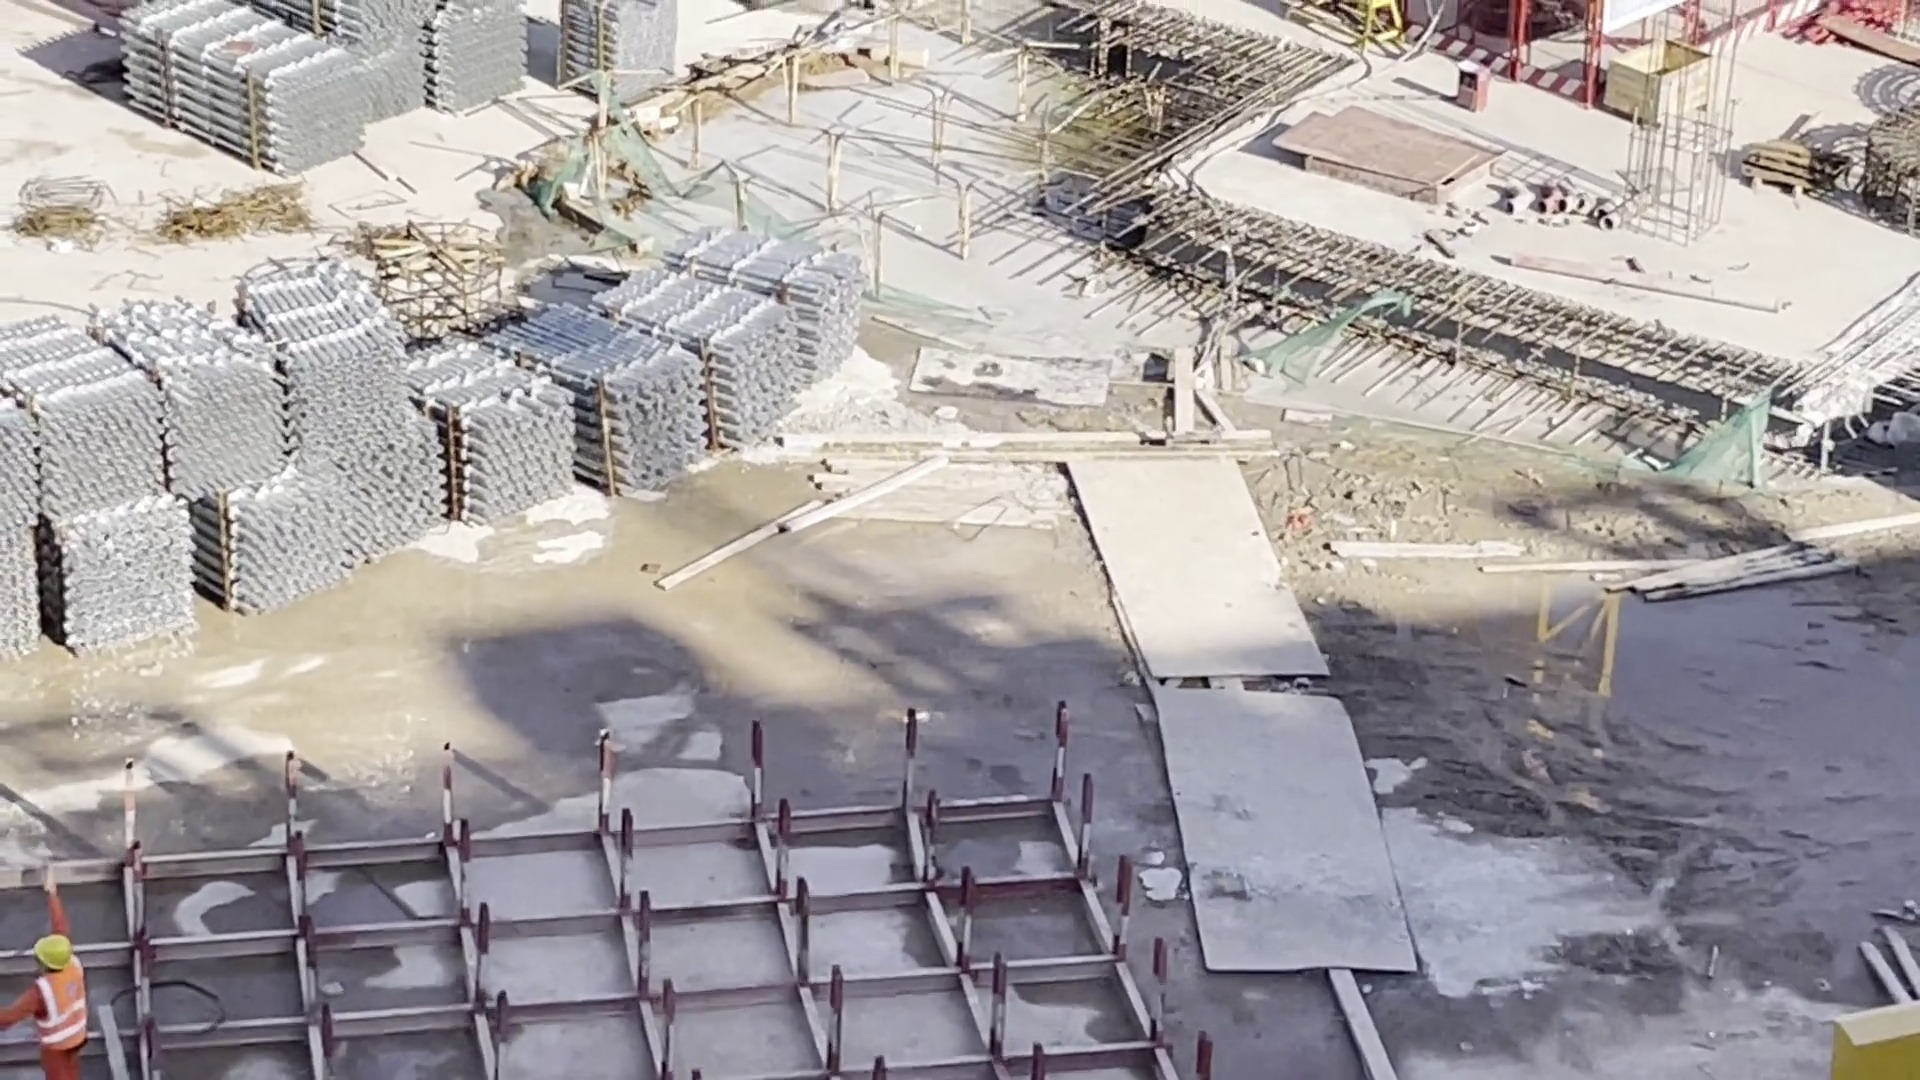board: (1287, 74, 1502, 202)
helmet: (23, 923, 76, 982)
person: (10, 923, 88, 1080)
scaffold: (1, 220, 859, 673), (105, 1, 529, 178), (558, 1, 681, 105)
vest: (22, 976, 89, 1039)
